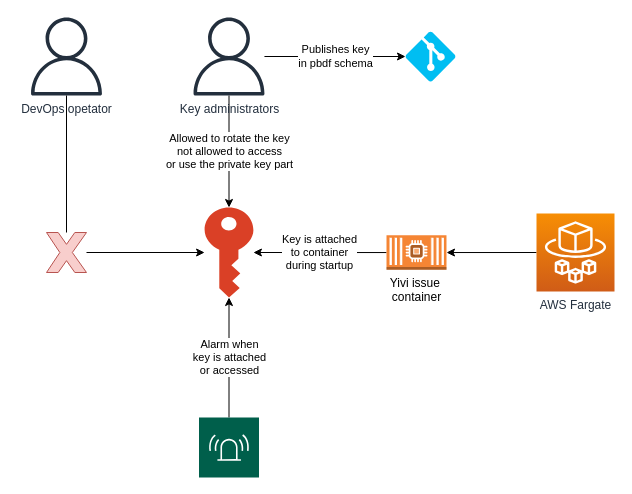
Image size: 632x494. Some labels were removed from this diagram. Each missing label, with the box of its shape:
Not allowed to Access or manage the key: (46, 232, 86, 272)
Private key: (204, 207, 253, 297)
